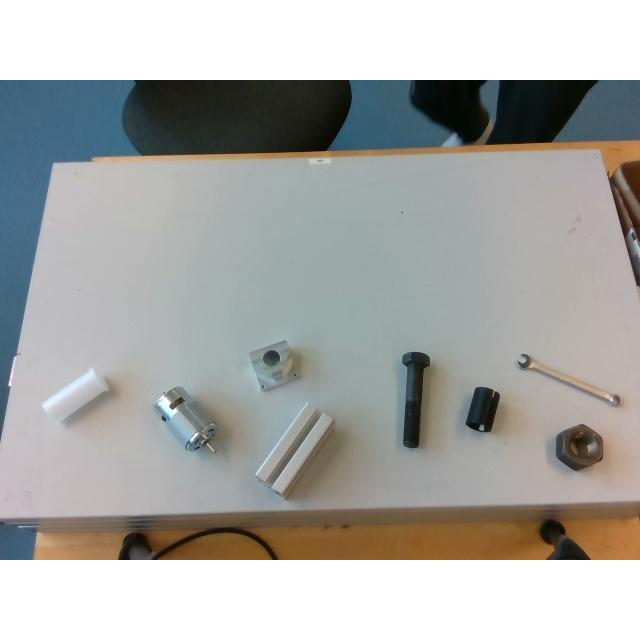M20_100: (402, 352, 430, 448)
M30: (555, 424, 603, 470)
Motor2: (152, 386, 215, 452)
S40_40_G: (254, 402, 334, 496)
Spacer: (42, 366, 108, 422)
